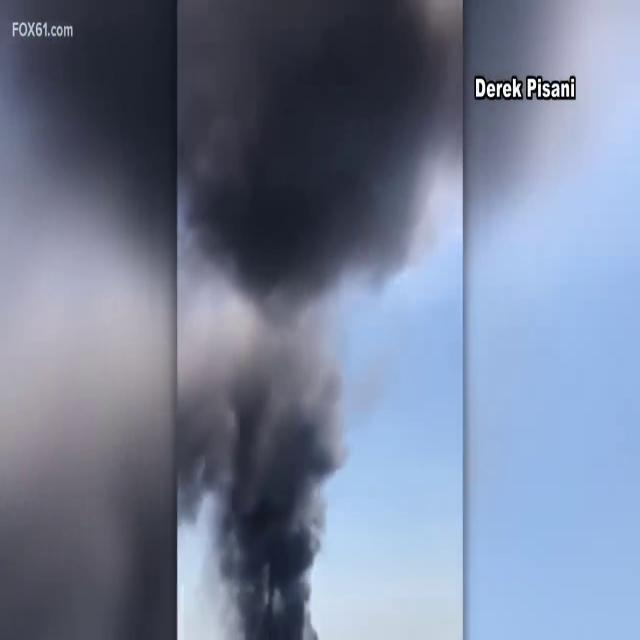Smoke: (176, 0, 459, 640)
